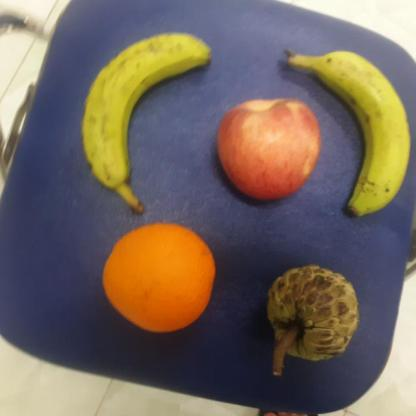annona: (266, 264, 360, 363)
apple: (216, 96, 324, 201)
banana: (78, 32, 216, 189), (312, 42, 410, 216)
orange: (100, 222, 216, 334)
